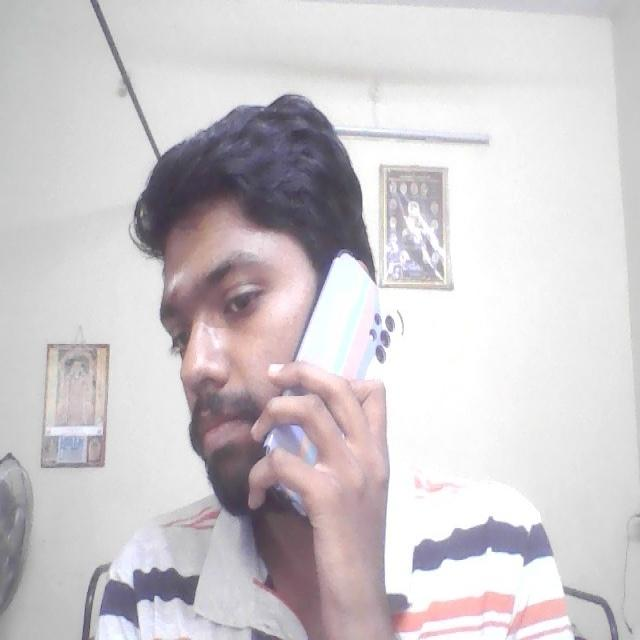Mobile: (280, 251, 407, 488)
